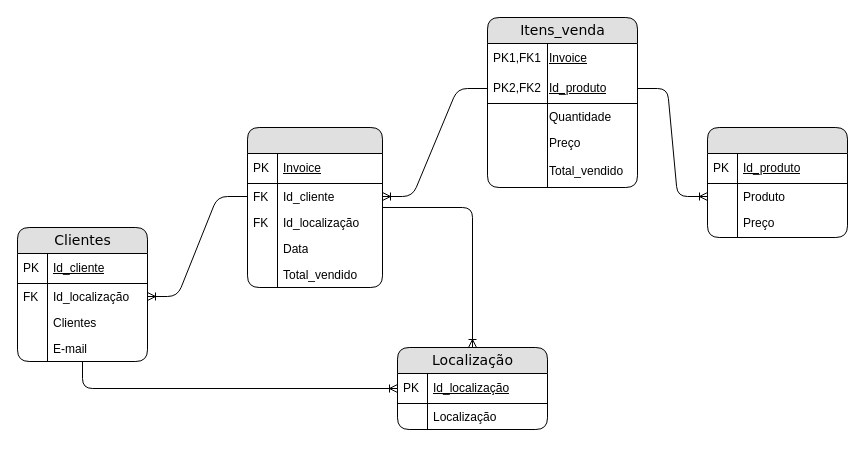
Some shapes in this 865 by 450 pixel diagram are drawn without their labels. The box of each missing label's shape, as (x1, y1, x2, y2) in pixels:
Produtos: (706, 126, 848, 238)
Vendas: (246, 126, 382, 288)
